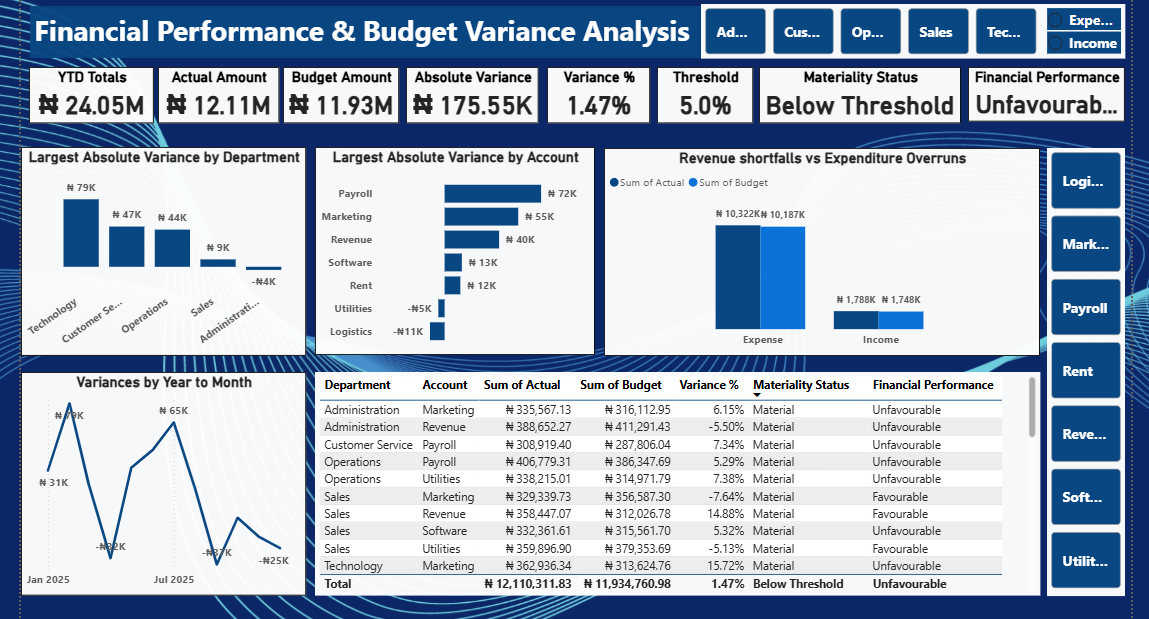

What the dashboard file says about the page in this screenshot:
{"tool":"powerbi","page":{"name":"Page 1","canvas":[1280,720],"ordinal":0},"visuals":[{"type":"card","title":"Actual  Amount","fields":{"Values":["Sum(dataset_raw.Actual)"]},"box":[158.1,83.1,139.6,64.6],"z":0},{"type":"card","title":"Budget  Amount","fields":{"Values":["Sum(dataset_raw.Budget)"]},"box":[302.3,83.1,133.8,64.6],"z":1000},{"type":"card","title":"Absolute Variance","fields":{"Values":["dataset_raw.Absolute Variance"]},"box":[444.2,83.1,153.5,64.6],"z":2000},{"type":"card","title":" Variance %","fields":{"Values":["dataset_raw.Variance %"]},"box":[606.9,83.1,118.8,64.6],"z":3000},{"type":"clusteredBarChart","title":"Largest Absolute Variance by Account","fields":{"Category":["dataset_raw.Account"],"Y":["dataset_raw.Absolute Variance"]},"box":[339.2,175.4,323.1,240],"z":4000},{"type":"clusteredColumnChart","title":"Largest Absolute Variance by Department","fields":{"Category":["dataset_raw.Department"],"Y":["dataset_raw.Absolute Variance"]},"box":[0,175.4,328.8,241.2],"z":5000},{"type":"clusteredColumnChart","title":"Revenue shortfalls vs Expenditure Overruns","fields":{"Category":["dataset_raw.Type"],"Y":["Sum(dataset_raw.Actual)","Sum(dataset_raw.Budget)"]},"box":[672.7,176.5,503.1,240],"z":6000},{"type":"lineChart","title":"Variances by Year to Month","fields":{"Category":["dataset_raw.Period.Variation.Date Hierarchy.Year","dataset_raw.Period.Variation.Date Hierarchy.Month","dataset_raw.Period.Variation.Date Hierarchy.Day"],"Y":["dataset_raw.Absolute Variance"]},"box":[0,435,328.8,258.5],"z":7000},{"type":"textbox","box":[10.4,12.7,774.2,60],"z":8000},{"type":"advancedSlicerVisual","fields":{"Values":["dataset_raw.Department"]},"box":[784.6,10.4,394.6,63.5],"z":9000},{"type":"listSlicer","fields":{"Values":["dataset_raw.Type"]},"box":[1179.8,10.3,95.1,63],"z":10000},{"type":"card","title":"Threshold","fields":{"Values":["dataset_raw.Materiality Threshold"]},"box":[733.8,83.1,110.8,64.6],"z":11000},{"type":"card","title":"Financial Performance","fields":{"Values":["dataset_raw.Favourable Unfavourable KPI"]},"box":[1092.7,83.1,181.2,63.5],"z":12000},{"type":"advancedSlicerVisual","fields":{"Values":["dataset_raw.Account"]},"box":[1183.8,176.5,90,516.9],"z":13000},{"type":"card","title":"Materiality Status","fields":{"Values":["dataset_raw.Materiality Status"]},"box":[851.5,83.1,233.1,64.6],"z":14000},{"type":"tableEx","fields":{"Values":["dataset_raw.Department","dataset_raw.Account","Sum(dataset_raw.Actual)","Sum(dataset_raw.Budget)","dataset_raw.Variance %","dataset_raw.Materiality Status","dataset_raw.Favourable Unfavourable KPI"]},"box":[339.2,435,836.5,258.5],"z":15000},{"type":"card","title":"YTD Totals","fields":{"Values":["dataset_raw.YTD Total"]},"box":[9.2,83.1,144.2,64.6],"z":16000}]}

Visuals, with their boxes in screenshot pixels (x1, y1, x2, y2):
"Actual  Amount" card: 145,61,268,118
"Budget  Amount" card: 272,61,390,118
"Absolute Variance" card: 397,61,532,118
" Variance %" card: 540,61,644,118
"Largest Absolute Variance by Account" clusteredBarChart: 304,142,588,353
"Largest Absolute Variance by Department" clusteredColumnChart: 6,142,295,354
"Revenue shortfalls vs Expenditure Overruns" clusteredColumnChart: 598,143,1040,354
"Variances by Year to Month" lineChart: 6,371,295,598
textbox: 15,0,696,52
advancedSlicerVisual - dataset_raw.Department: 696,0,1043,53
listSlicer - dataset_raw.Type: 1044,0,1127,53
"Threshold" card: 651,61,749,118
"Financial Performance" card: 967,61,1126,117
advancedSlicerVisual - dataset_raw.Account: 1047,143,1126,598
"Materiality Status" card: 755,61,960,118
tableEx - dataset_raw.Department x dataset_raw.Account: 304,371,1040,598
"YTD Totals" card: 14,61,141,118
